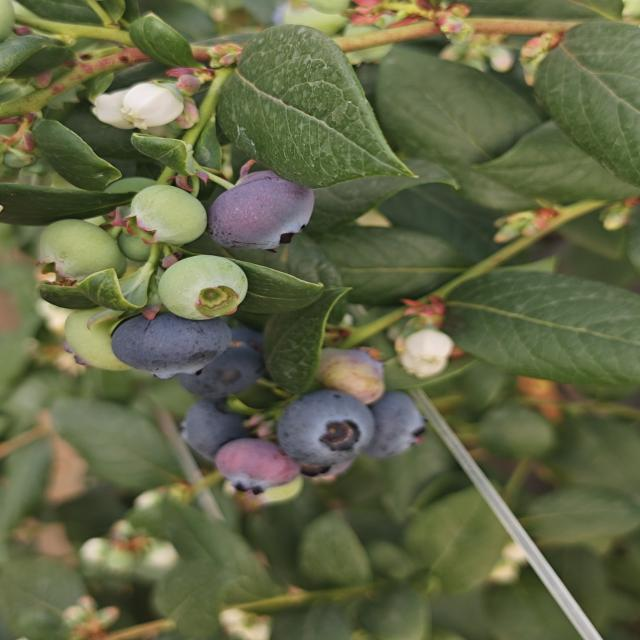ripe: (205, 169, 317, 253), (108, 308, 234, 382), (274, 388, 378, 473), (174, 400, 255, 462), (380, 387, 432, 455), (205, 358, 252, 406)
